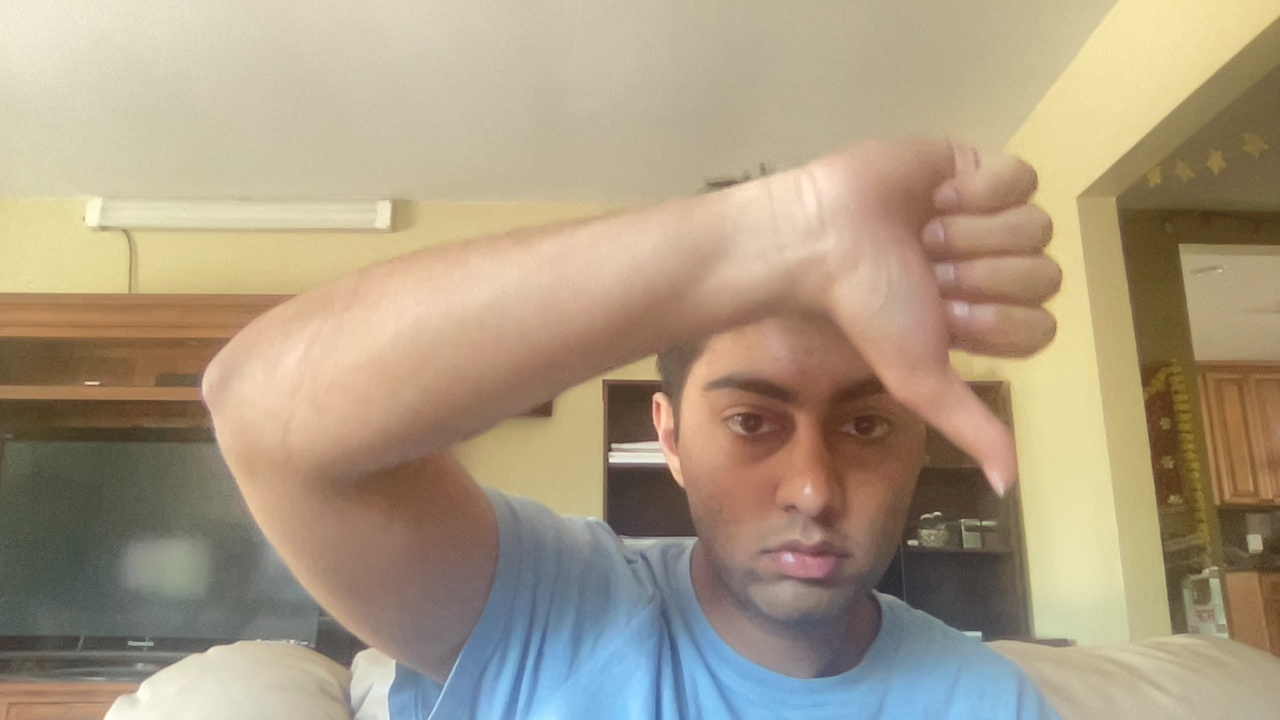ThumbsDown: (827, 136, 1059, 498)
